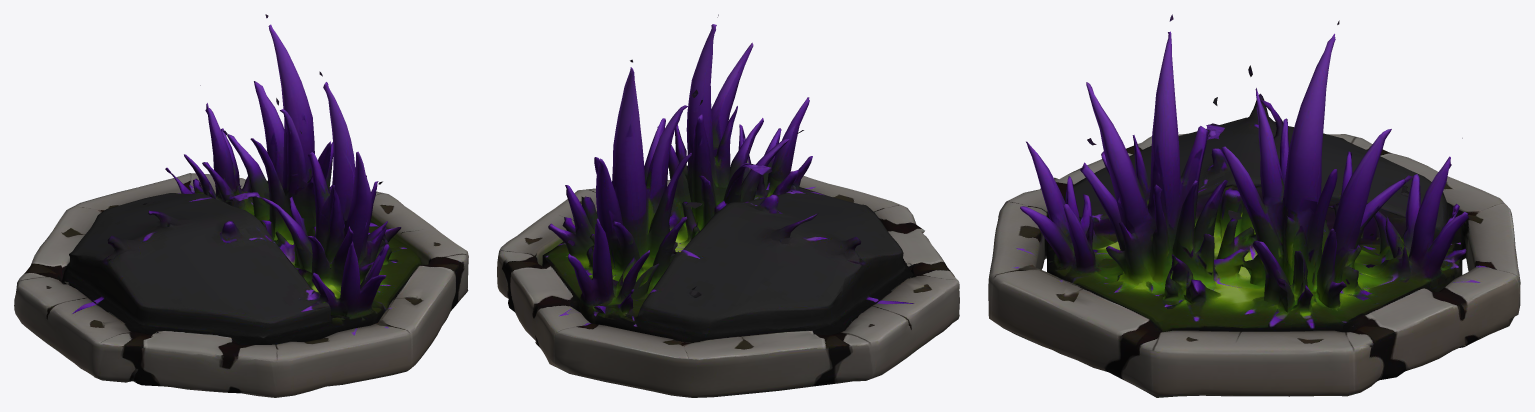
Rendered from SM_Utileria_AccesorioJardinCristal_01.fbx.
3 views of the same model, side by side, from view 1: azimuth 30°, elevation 25°; view 2: azimuth 150°, elevation 25°; view 3: azimuth 270°, elevation 25° (orthographic). The views are drawn at different scales.
Visible parts, largest first — view 1: SM_Utileria_AccesorioJardinCristal_01; view 2: SM_Utileria_AccesorioJardinCristal_01; view 3: SM_Utileria_AccesorioJardinCristal_01.
Part boxes in pixels (x1=…): SM_Utileria_AccesorioJardinCristal_01: x1=14, y1=14, x2=468, y2=397; SM_Utileria_AccesorioJardinCristal_01: x1=497, y1=14, x2=959, y2=397; SM_Utileria_AccesorioJardinCristal_01: x1=988, y1=14, x2=1520, y2=397.
Size of the model in its own units: 0.9761 by 0.6268 by 0.9955.
1 material, 1 textured.
